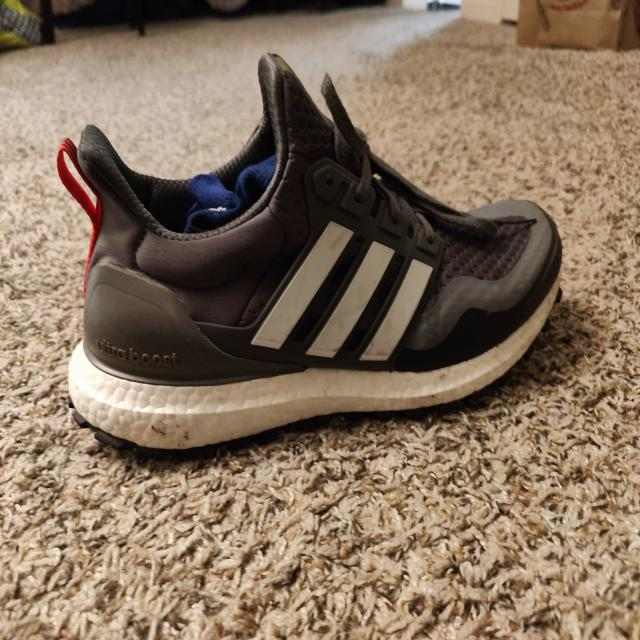black shoes: (59, 52, 559, 434)
